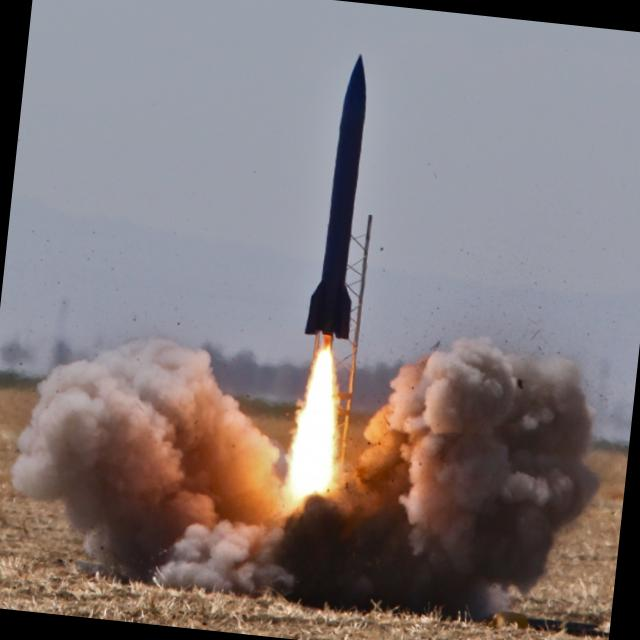rocket: (289, 45, 389, 504)
